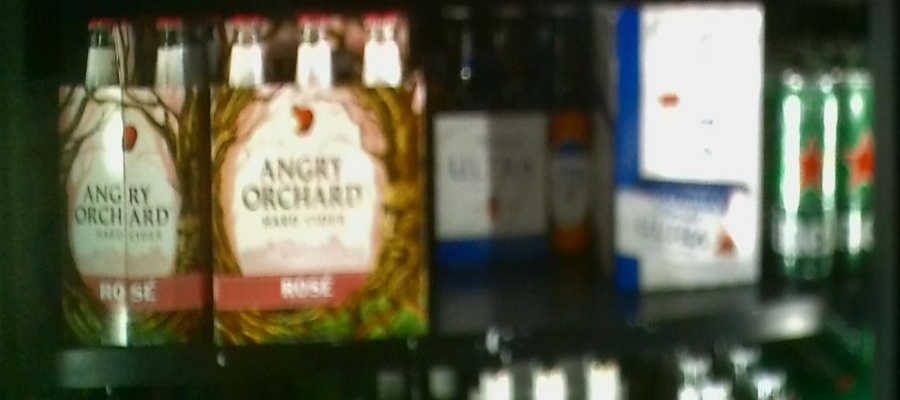bottle: (210, 10, 431, 338), (57, 11, 211, 346), (594, 6, 763, 295), (431, 7, 594, 262), (765, 68, 839, 282)
